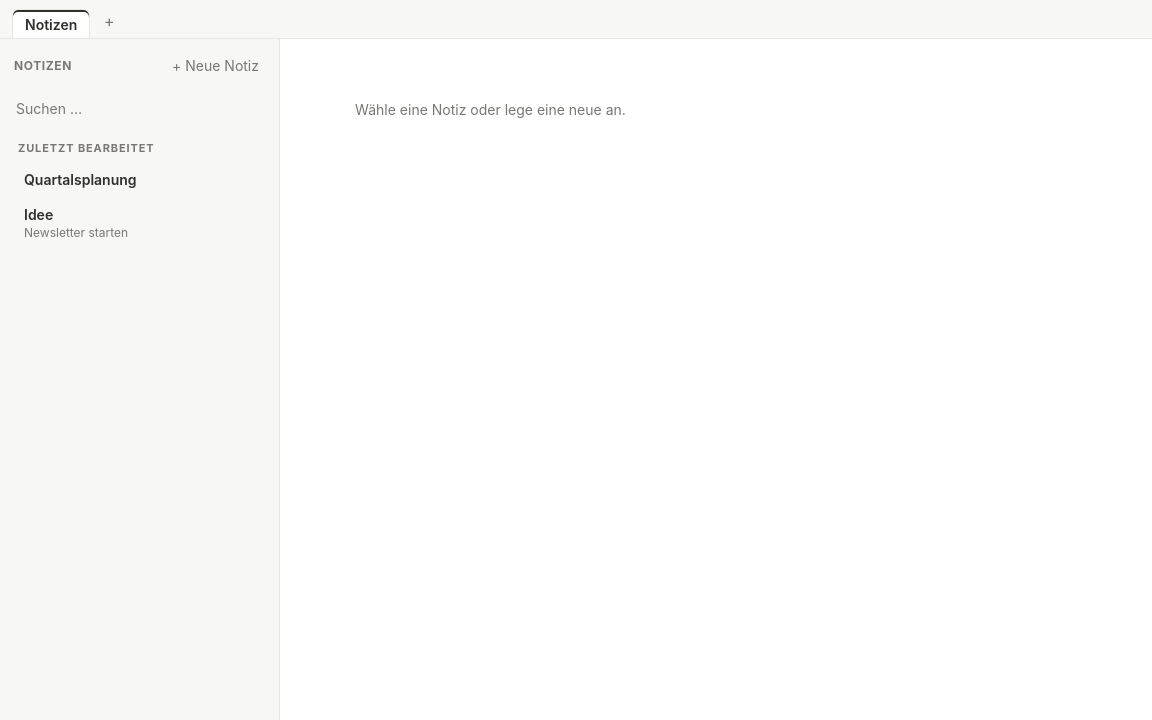
Test case: NotizenView › durchsucht Titel und Inhalt
The image size is (1152, 720).
Expected: the text "Quartalsplanung" is shown, [24, 171, 136, 188]
Type "newsletter" into the search field named "Notizen durchsuchen". click: [140, 108]
box: [14, 92, 265, 125]
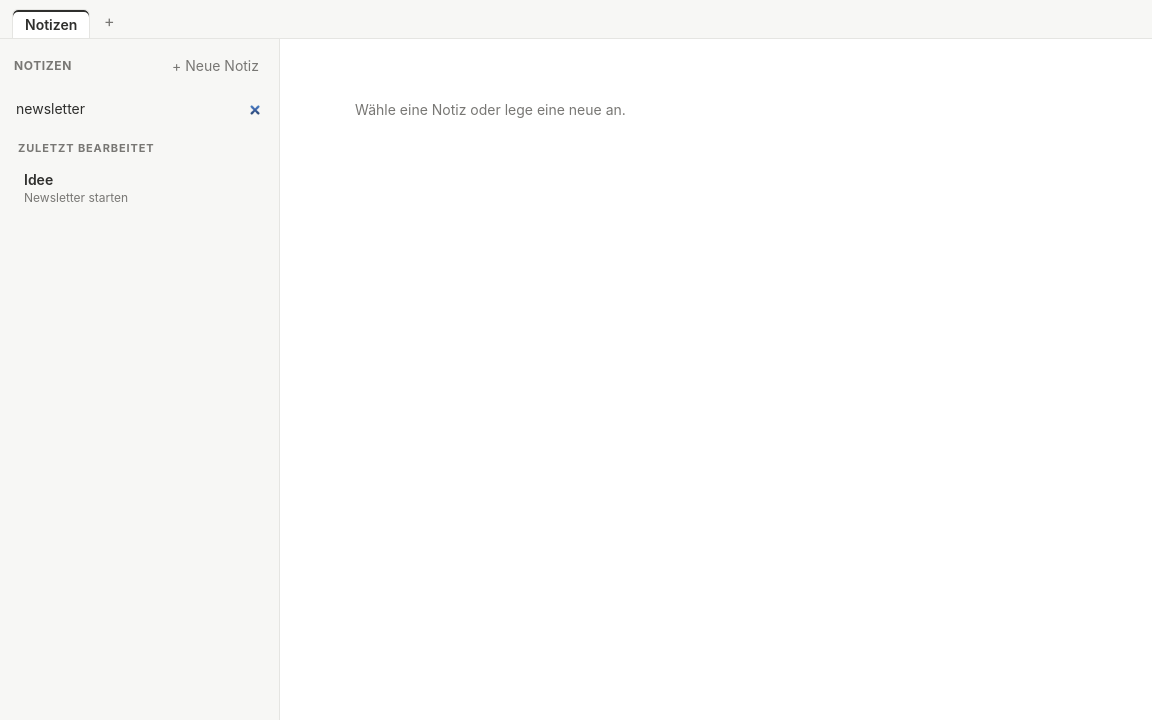
Expected: the text "Idee" is shown, [24, 171, 53, 188]
Expected: the button "Quartalsplanung" is gone
Replace the text in the search field named "Notizen durchsuchen" with "gibt es nicht". click: [140, 108]
box: [14, 92, 265, 125]
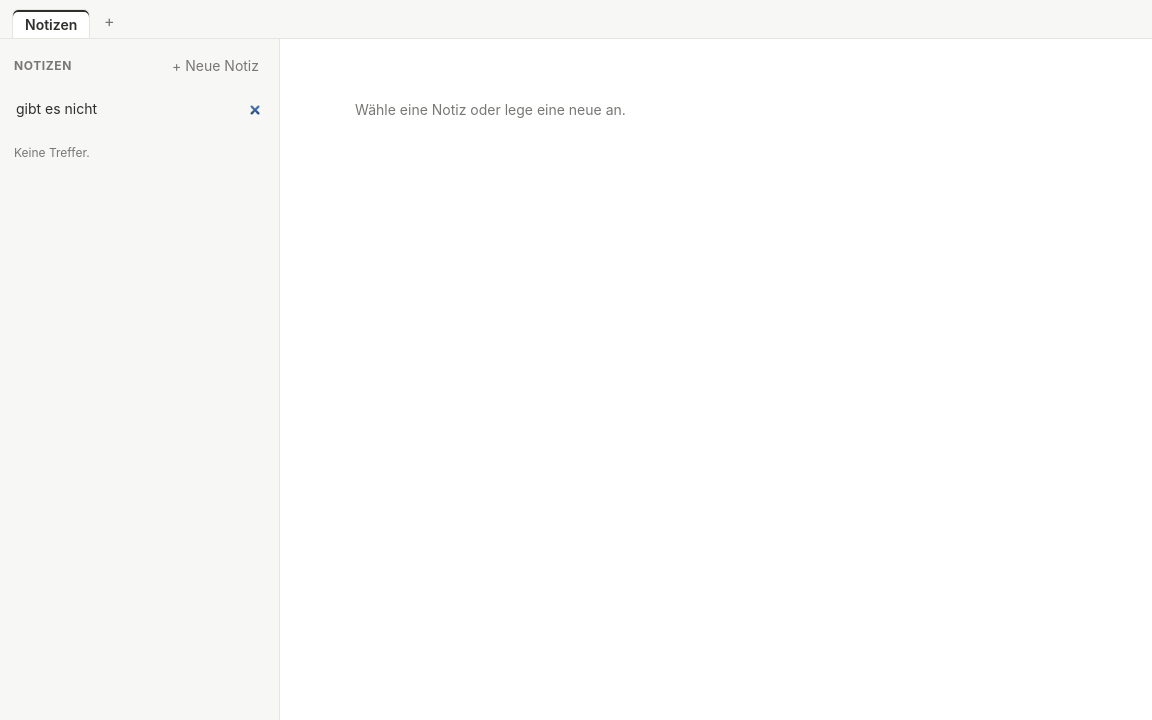
Expected: the text "Keine Treffer." is shown, [14, 145, 90, 160]
